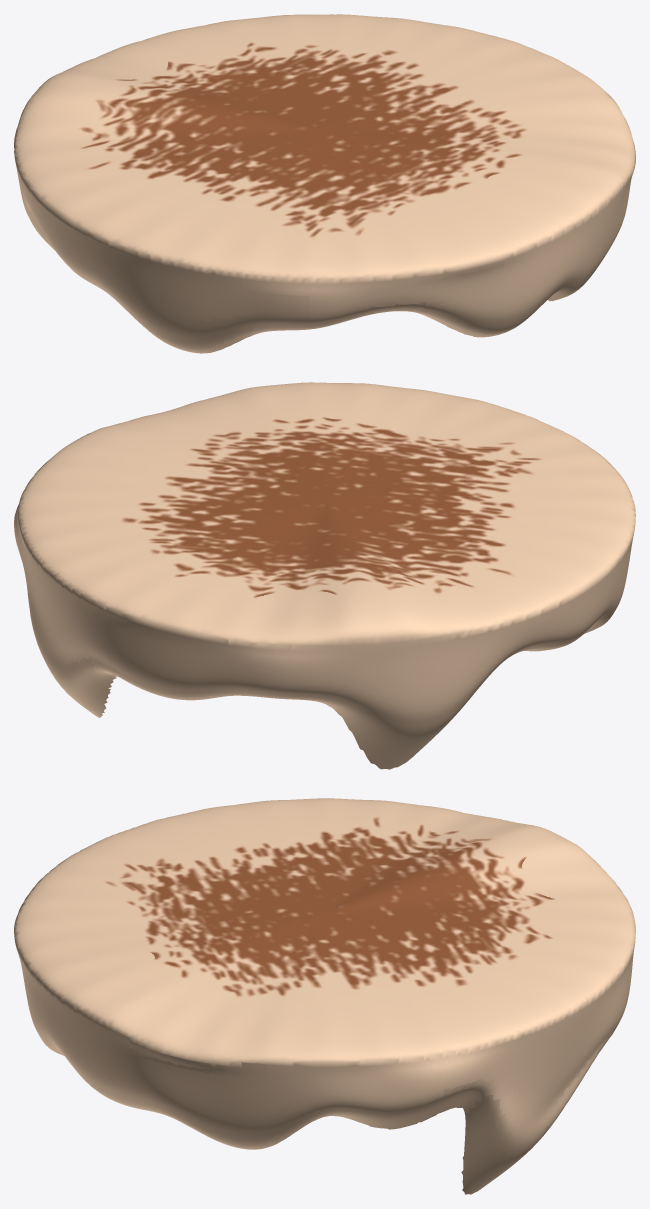
File: PostreSweetHelp_Mermelada_milo.glb
3 views of the same model, one above another, from view 1: azimuth 30°, elevation 25°; view 2: azimuth 150°, elevation 25°; view 3: azimuth 270°, elevation 25° (orthographic).
Parts seen in each view (by area): view 1: Cremaarriba; view 2: Cremaarriba; view 3: Cremaarriba.
Part boxes in pixels (x1=…): Cremaarriba: x1=14, y1=14, x2=635, y2=353; Cremaarriba: x1=14, y1=382, x2=635, y2=769; Cremaarriba: x1=14, y1=798, x2=635, y2=1194.
Size of the model in its own units: 2.63 by 0.9738 by 2.64.
Materials: 1 (1 with a texture image).
